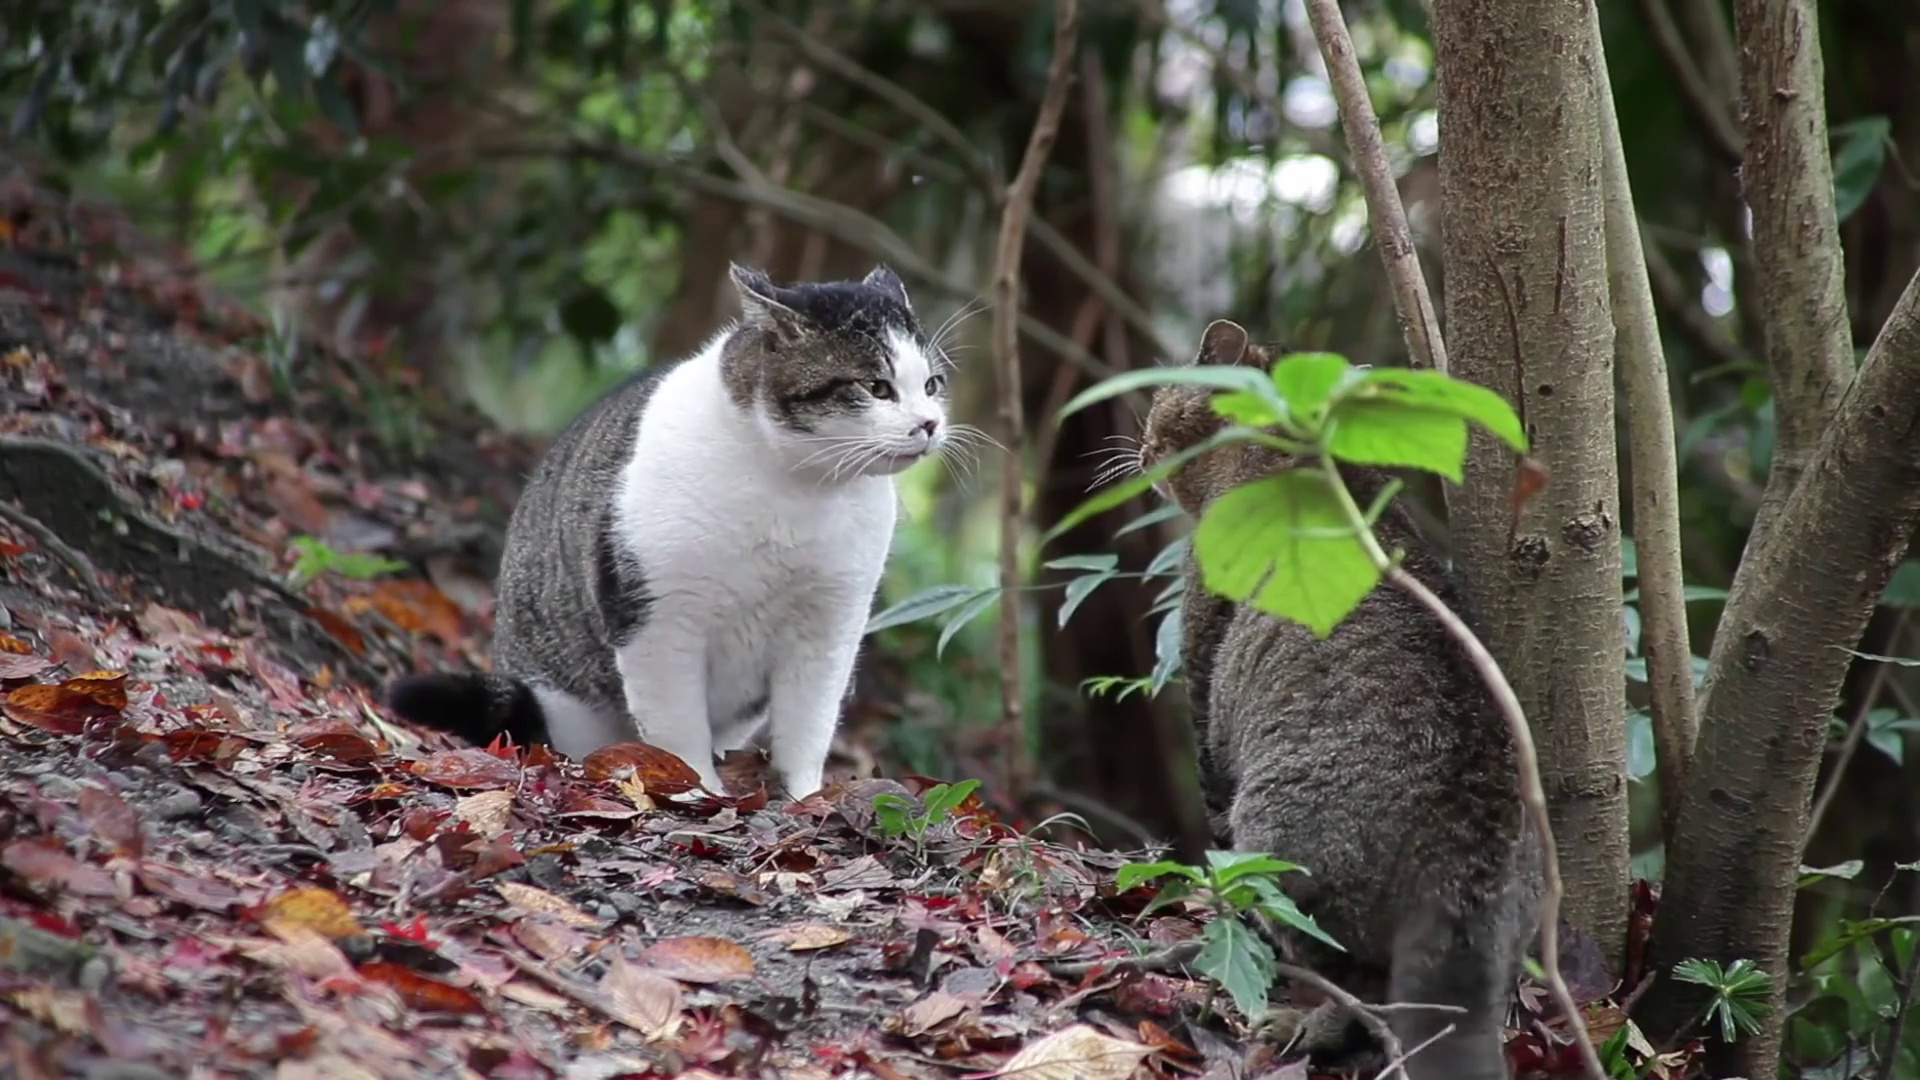black-white: (386, 260, 945, 810)
pure black: (1133, 318, 1538, 1080)
